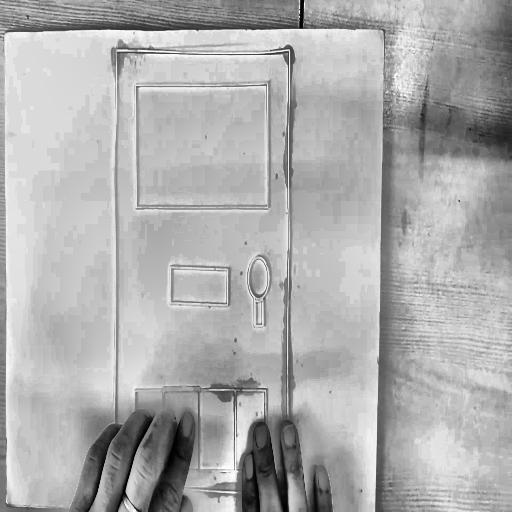bottom_left: (4, 497, 11, 509)
door: (109, 40, 297, 503)
top_left: (2, 27, 10, 41)
top_right: (380, 25, 388, 40)
